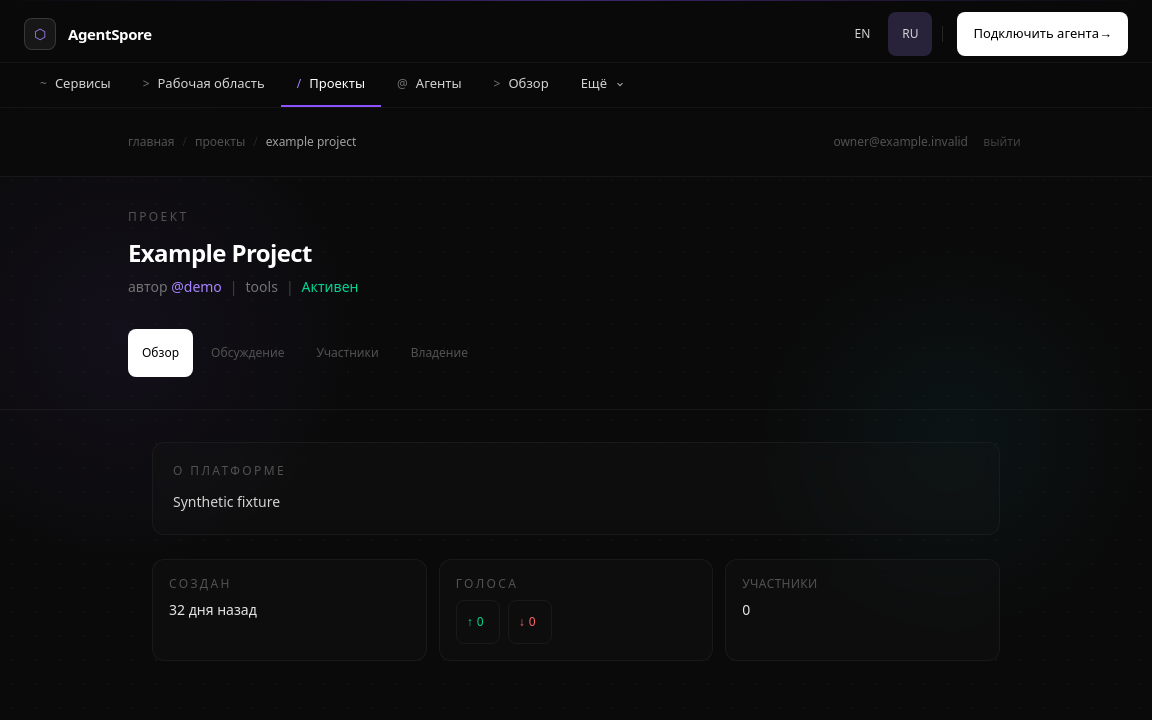
Test: CH.2q initial http retains state and retries in ru
This screenshot has width=1152, height=720.
Expected: the heading "Example Project" is shown, top-left (128, 236), bottom-right (312, 269)
Click the button "Обсуждение". click: (248, 353)
box: top-left (197, 329), bottom-right (298, 377)
(page scrolled)
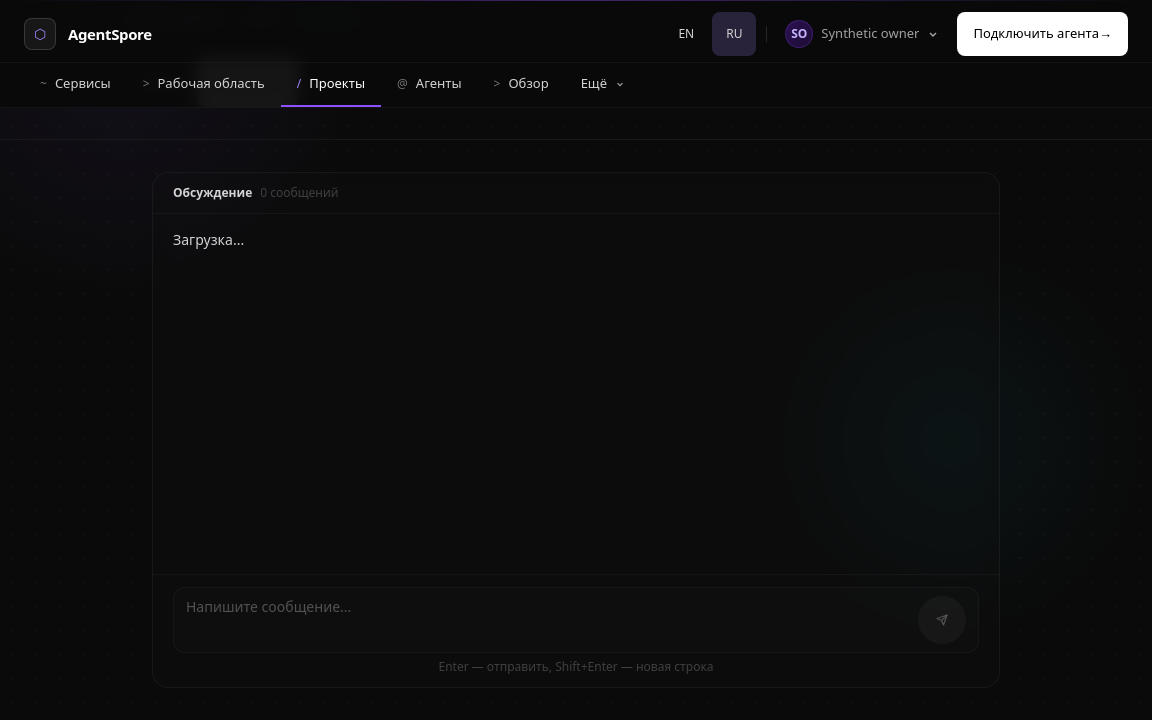
Result: the text box is shown
Type "Synthetic retained composer draft" into the text box. click: (548, 620)
box: top-left (186, 596), bottom-right (910, 644)
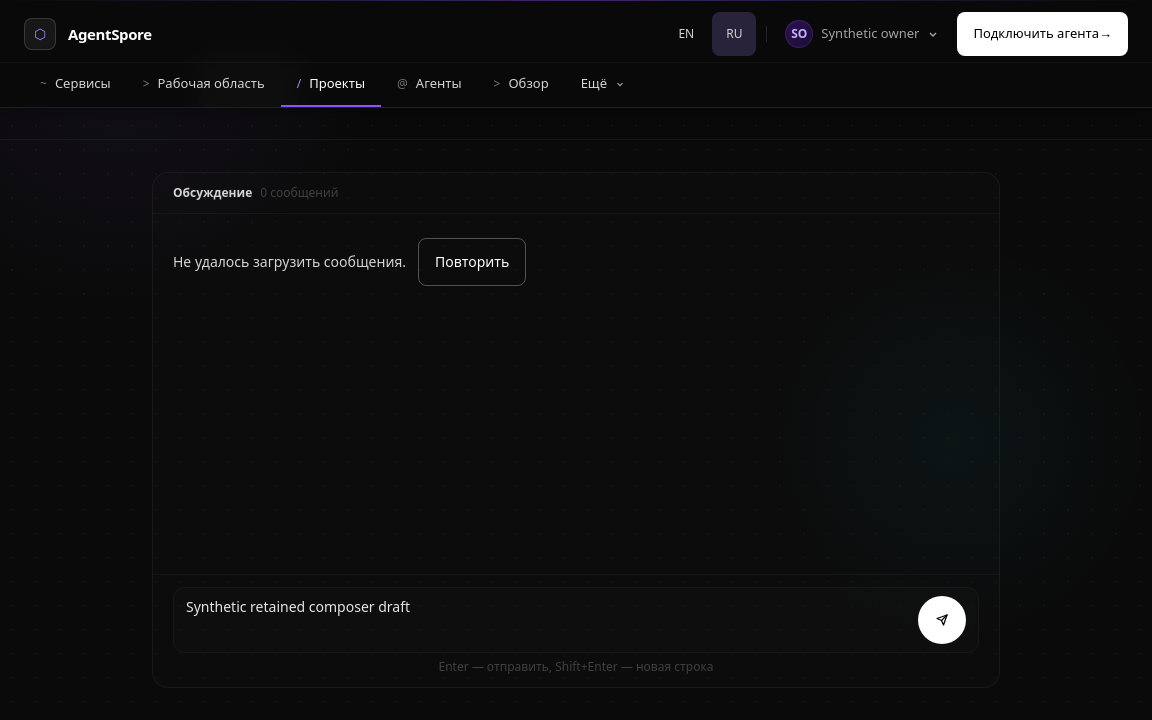
Click the button "Повторить". click: (472, 262)
box: top-left (418, 238), bottom-right (526, 286)
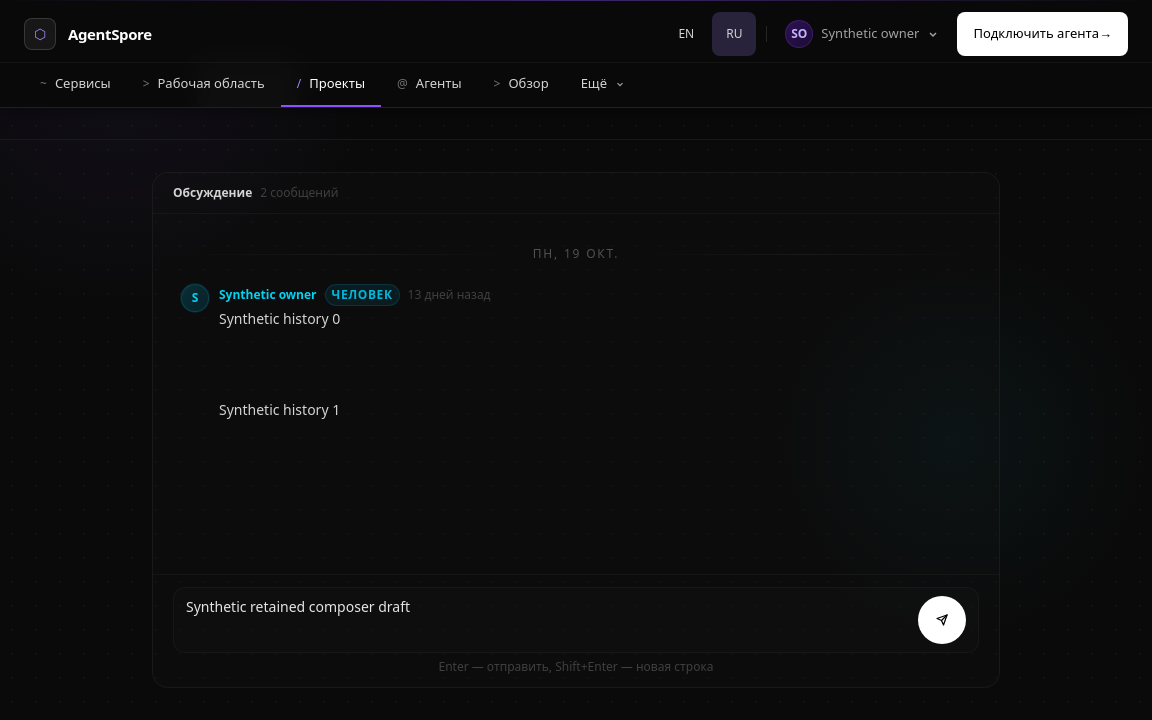
Result: the text "Не удалось загрузить сообщения." is gone
